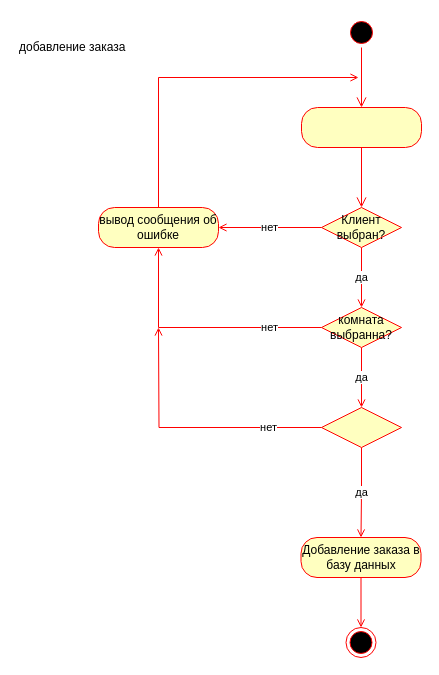
Image size: 439x675. Some labels were removed from this diagram. Each missing label, with the centre of its shape:
"дата выезда больше даты регистрации?" belongs at point 361,427.
"Ожидание ввода данных" belongs at point 361,127.
